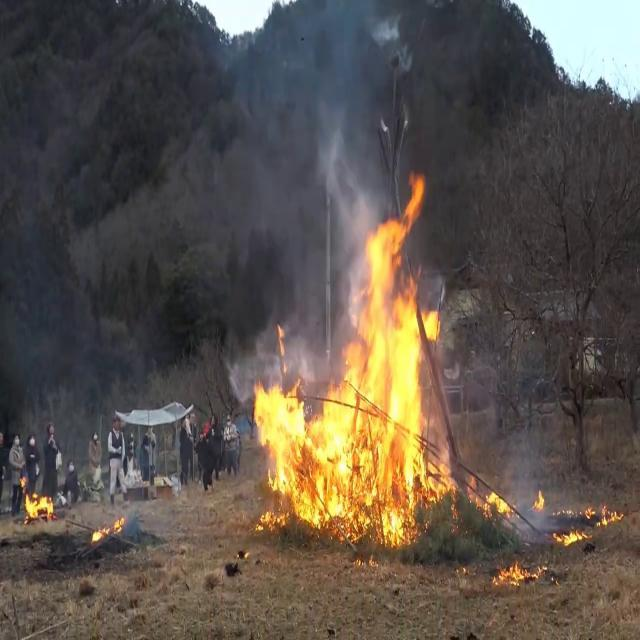Fire: (246, 171, 454, 547), (467, 468, 515, 522), (490, 558, 538, 588), (20, 485, 56, 521), (92, 514, 126, 552)
Smoke: (210, 0, 420, 276)
